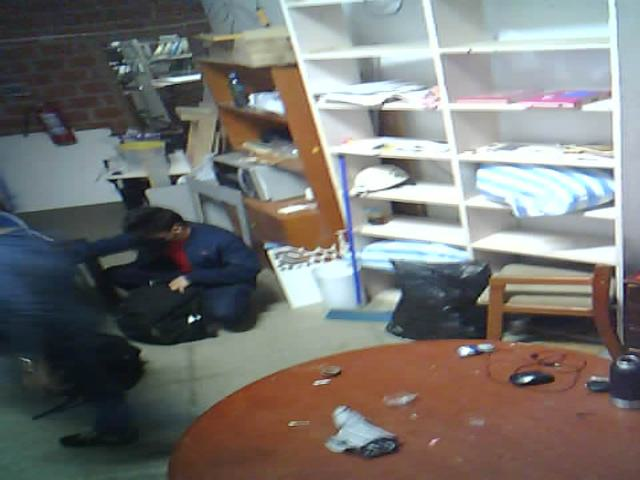person: (3, 191, 158, 464), (104, 193, 277, 342)
